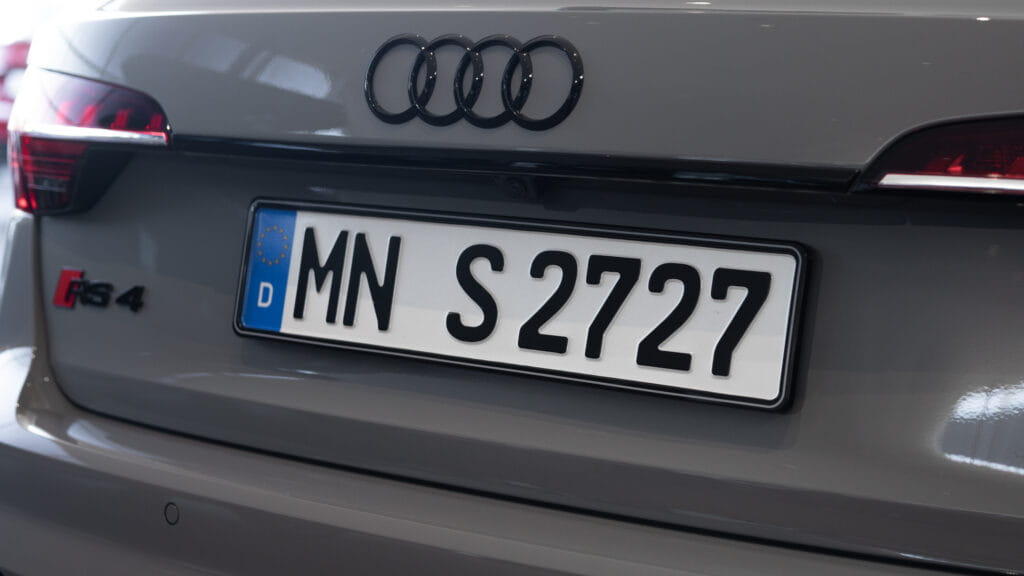tablica: (242, 195, 799, 416)
